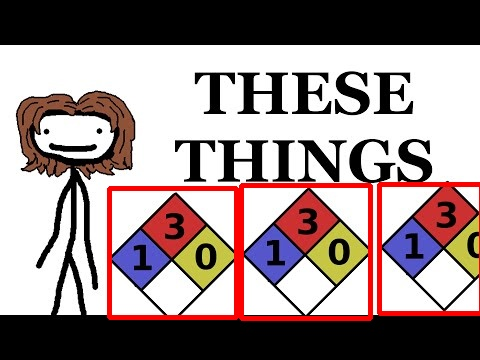nfpa: (241, 185, 370, 318), (109, 188, 236, 317), (379, 184, 480, 313)
